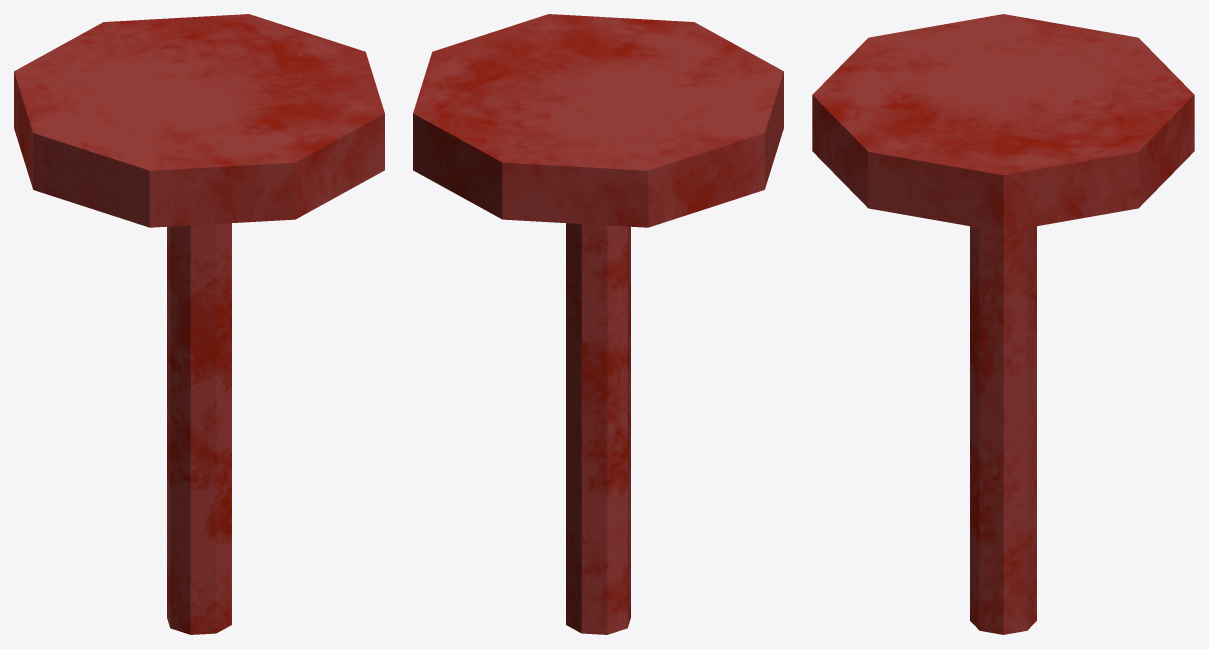
The model's file is TVXQ_03.glb.
The picture shows the model from 3 angles, left to right: view 1: azimuth 30°, elevation 25°; view 2: azimuth 150°, elevation 25°; view 3: azimuth 270°, elevation 25°; orthographic projection.
Visible parts, largest first — view 1: TVXQ_03; view 2: TVXQ_03; view 3: TVXQ_03.
Part boxes in pixels (x1,y1,x2,y2): TVXQ_03: (14,14,384,634); TVXQ_03: (413,14,783,634); TVXQ_03: (812,14,1194,634).
Bounding box in the file's own units: 0.0656 × 0.0997 × 0.0656.
Materials: 1 (1 with a texture image).
